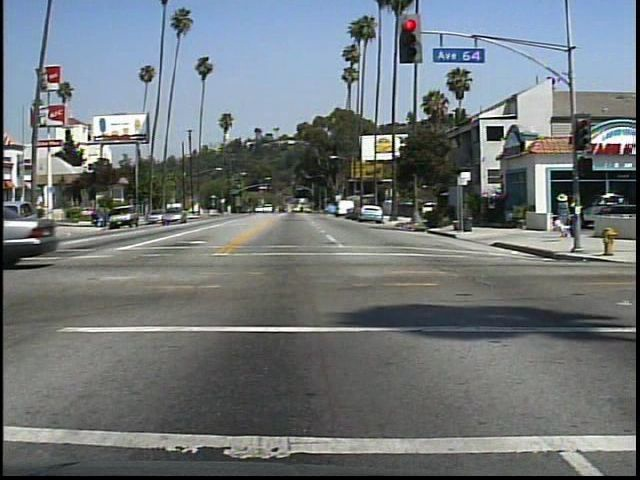person: (558, 190, 577, 243)
